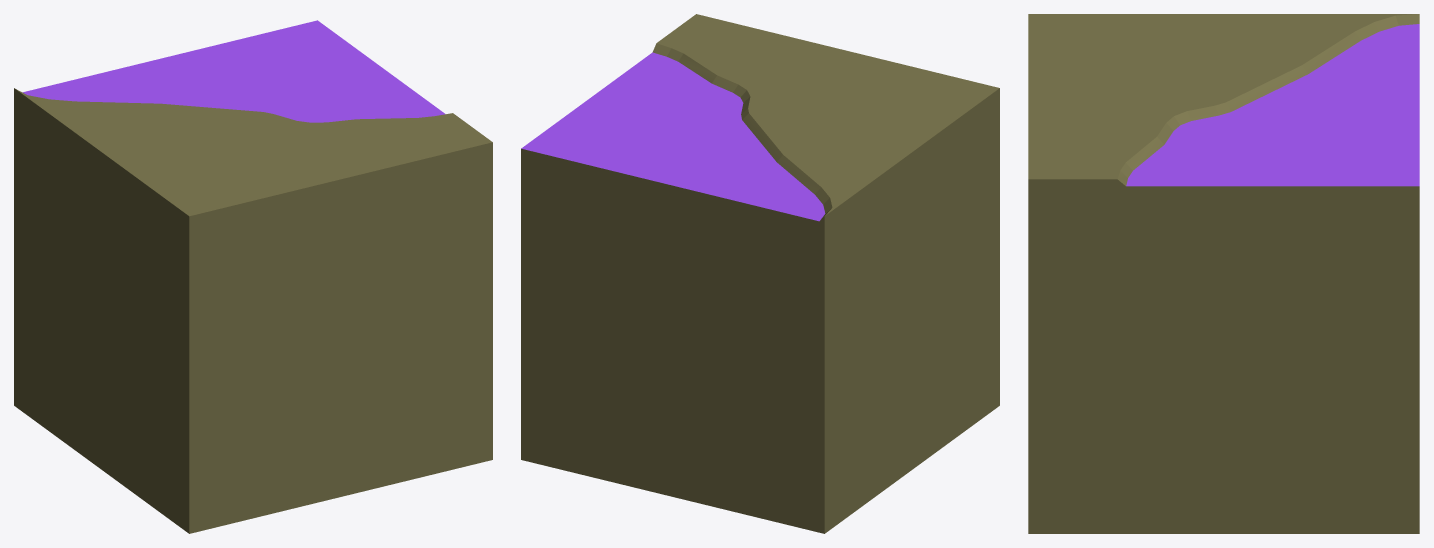
File: tile_toxic_4c_01.fbx
3 views of the same model, side by side, from view 1: azimuth 30°, elevation 25°; view 2: azimuth 150°, elevation 25°; view 3: azimuth 270°, elevation 25° (orthographic). The views are drawn at different scales.
Parts seen in each view (by area): view 1: tile_toxic_4c_01; view 2: tile_toxic_4c_01; view 3: tile_toxic_4c_01.
Part boxes in pixels (left/top/right/bottom): tile_toxic_4c_01: left=14, top=20, right=492, bottom=533; tile_toxic_4c_01: left=521, top=14, right=999, bottom=533; tile_toxic_4c_01: left=1028, top=14, right=1419, bottom=533.
Size of the model in its own units: 100 by 100 by 100.
